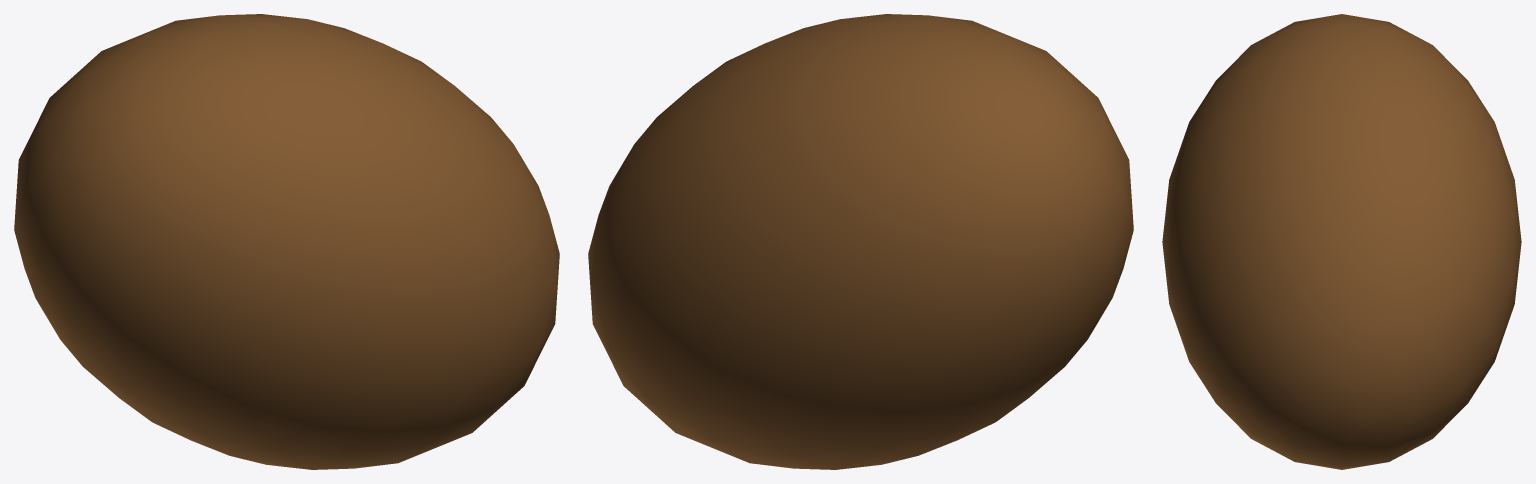
File: Pot_L1.fbx
3 views of the same model, side by side, from view 1: azimuth 30°, elevation 25°; view 2: azimuth 150°, elevation 25°; view 3: azimuth 270°, elevation 25° (orthographic). The views are drawn at different scales.
Visible parts, largest first — view 1: L1_Seed; view 2: L1_Seed; view 3: L1_Seed.
Part boxes in pixels (x1,y1,x2,y2): L1_Seed: [14, 14, 559, 469]; L1_Seed: [588, 14, 1133, 469]; L1_Seed: [1162, 14, 1521, 469].
Bounding box in the file's own units: 14.97 × 12.76 × 11.52.
